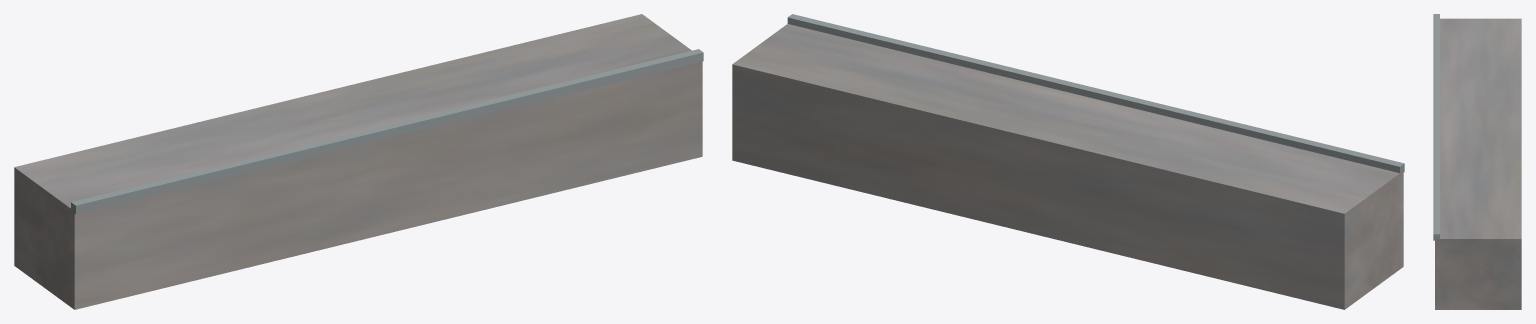
The model's file is skate-ledge.glb.
3 views of the same model, side by side, from view 1: azimuth 30°, elevation 25°; view 2: azimuth 150°, elevation 25°; view 3: azimuth 270°, elevation 25° (orthographic). The views are drawn at different scales.
Parts seen in each view (by area): view 1: Grind ledge, Ledge coping; view 2: Grind ledge, Ledge coping; view 3: Grind ledge, Ledge coping.
Boxes of the visible parts, <box> form: Grind ledge: <box>14,14,702,309</box>; Ledge coping: <box>71,49,703,214</box>; Grind ledge: <box>732,24,1403,309</box>; Ledge coping: <box>787,14,1404,172</box>; Grind ledge: <box>1435,18,1521,309</box>; Ledge coping: <box>1433,14,1439,240</box>.
Bounding box in the file's own units: 6 × 0.96 × 1.02.
2 materials, 1 textured.
